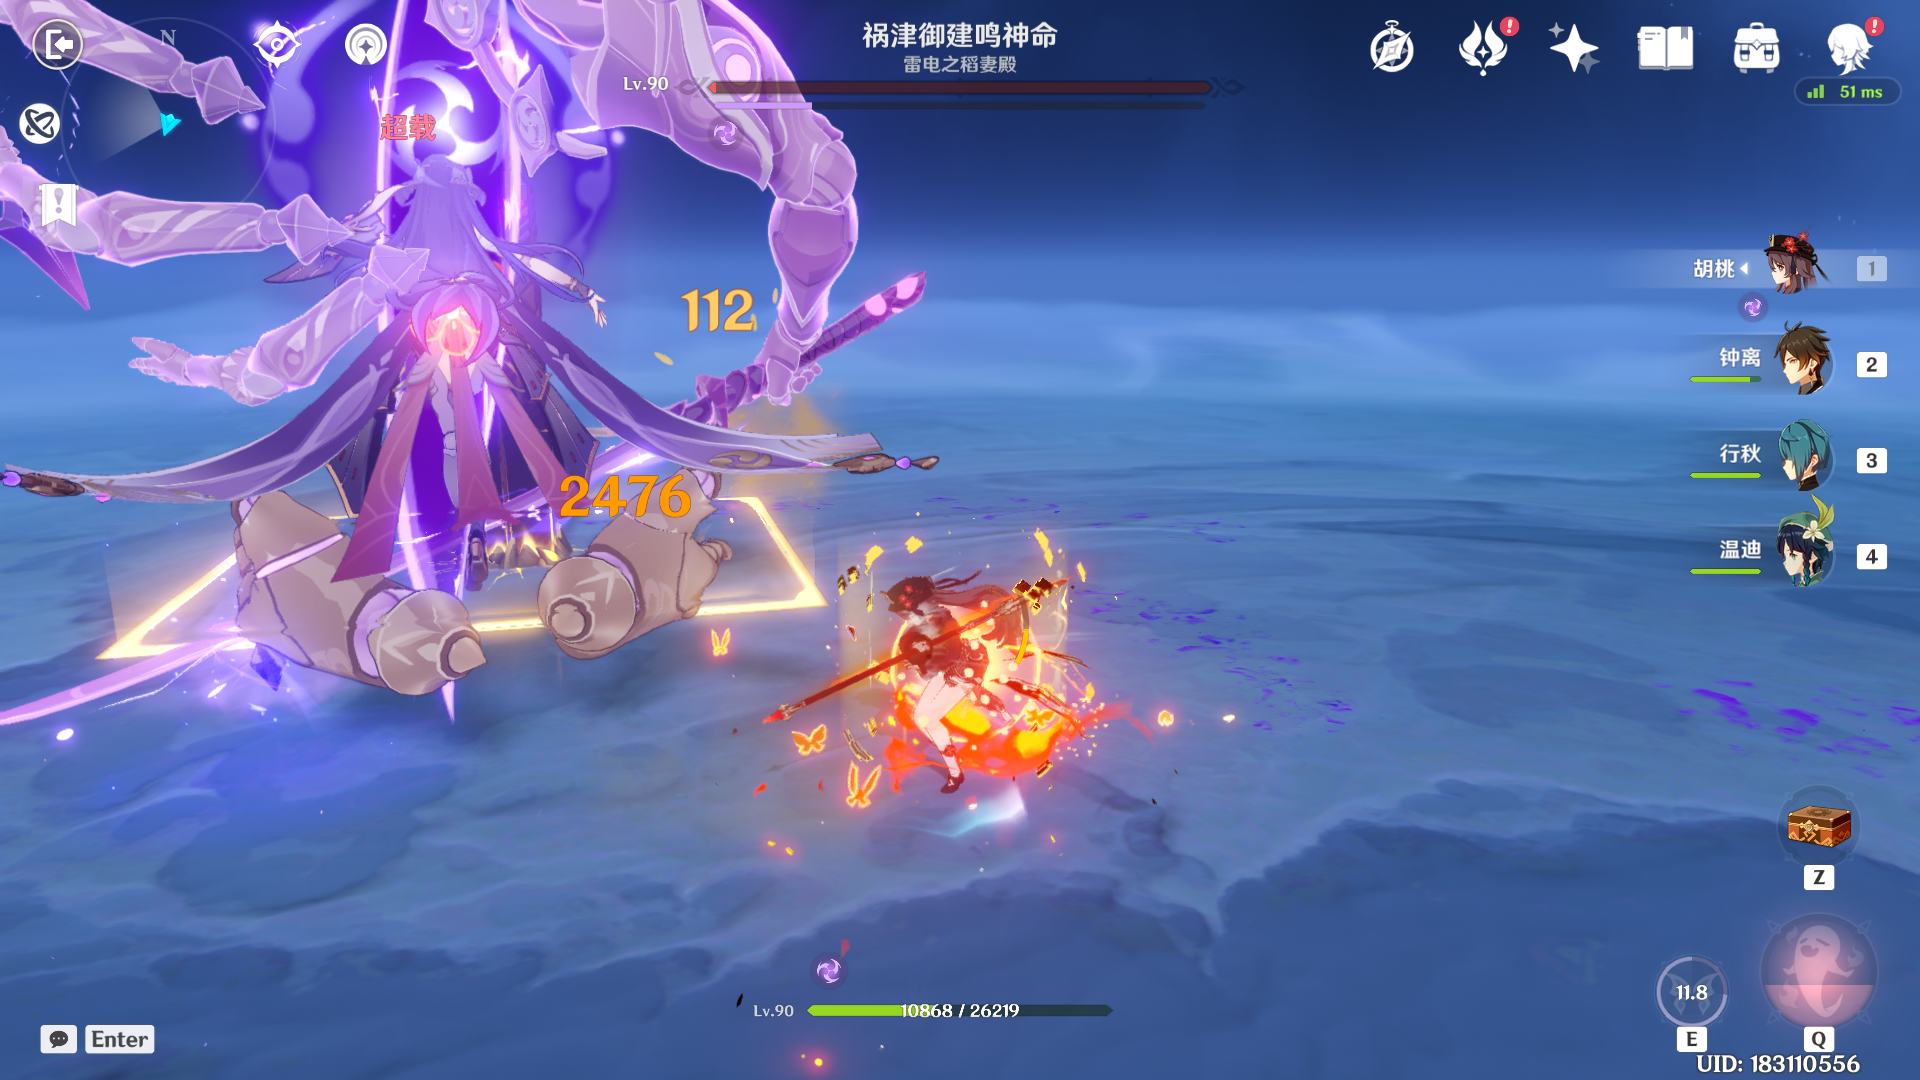character: (775, 506, 1126, 819)
